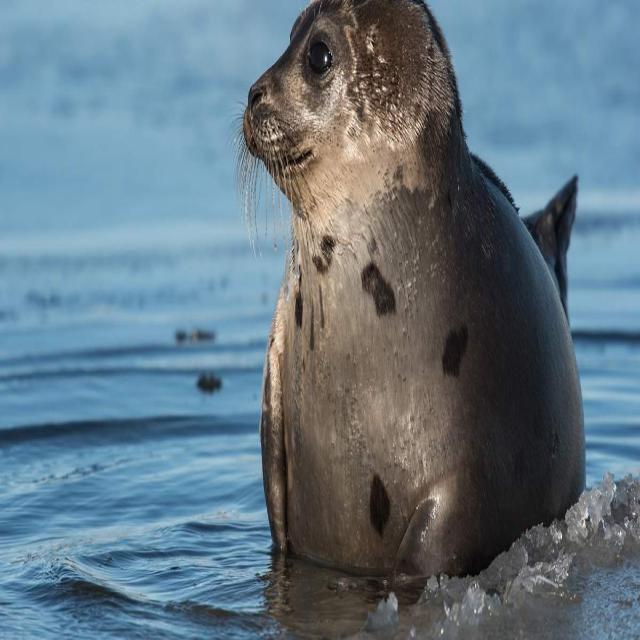WaterDog: (237, 3, 579, 595)
